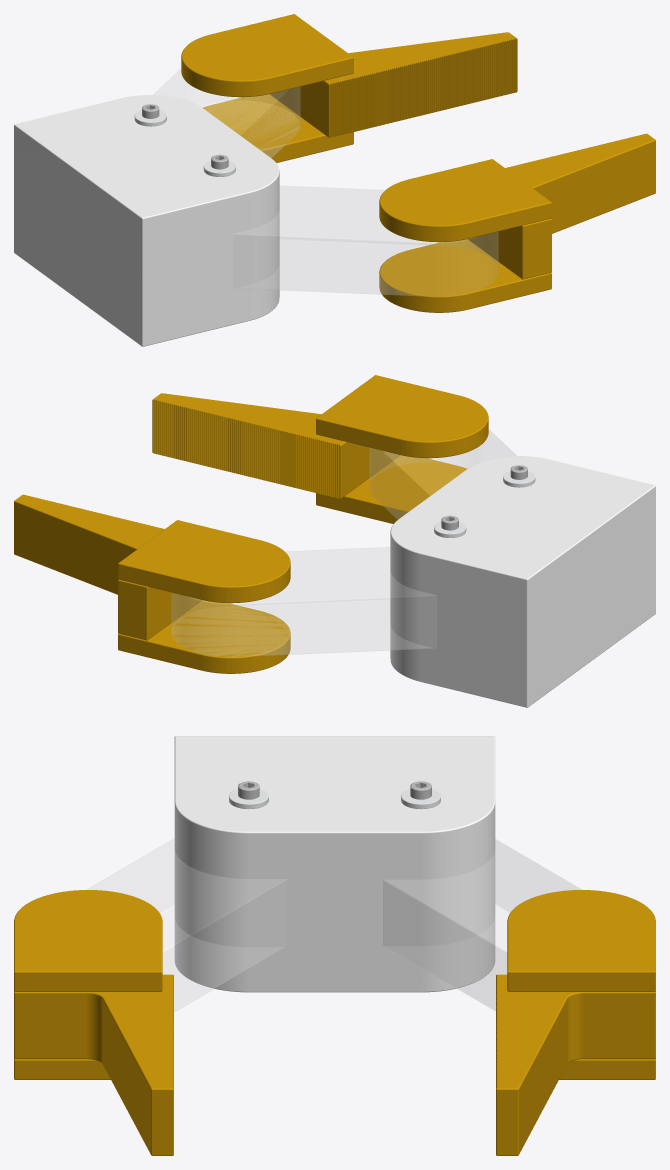
Rendered from NewGripper.fbx.
3 renders of one model, top to bottom at view 1: azimuth 30°, elevation 25°; view 2: azimuth 150°, elevation 25°; view 3: azimuth 270°, elevation 25°, orthographic. The views are drawn at different scales.
Parts seen in each view (by area): view 1: 3DGeom~33, 3DGeom~630_10, 3DGeom~630_11, 3DGeom~379, 3DGeom~379_4; view 2: 3DGeom~33, 3DGeom~630_11, 3DGeom~630_10, 3DGeom~379_4, 3DGeom~379; view 3: 3DGeom~33, 3DGeom~630_10, 3DGeom~630_11, 3DGeom~379, 3DGeom~379_4.
Part boxes in pixels (x1,y1,x2,y2): 3DGeom~33: (14,95,279,346); 3DGeom~630_10: (181,14,517,162); 3DGeom~630_11: (379,133,655,312); 3DGeom~379: (233,186,498,296); 3DGeom~379_4: (153,69,300,157); 3DGeom~33: (390,456,655,707); 3DGeom~630_11: (152,375,488,523); 3DGeom~630_10: (14,494,290,673); 3DGeom~379_4: (171,547,436,656); 3DGeom~379: (369,429,516,519); 3DGeom~33: (174,736,495,992); 3DGeom~630_10: (496,890,655,1155); 3DGeom~630_11: (14,890,173,1155); 3DGeom~379: (87,838,286,1012); 3DGeom~379_4: (383,839,581,1011).
Bounding box in the file's own units: 12.69 × 3.7 × 11.23.
